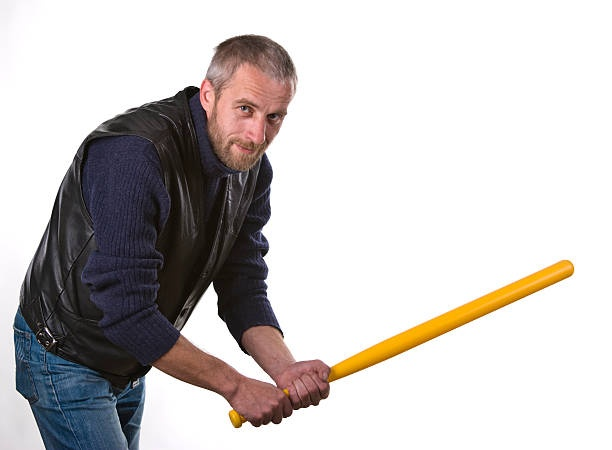bita: (236, 258, 575, 425)
